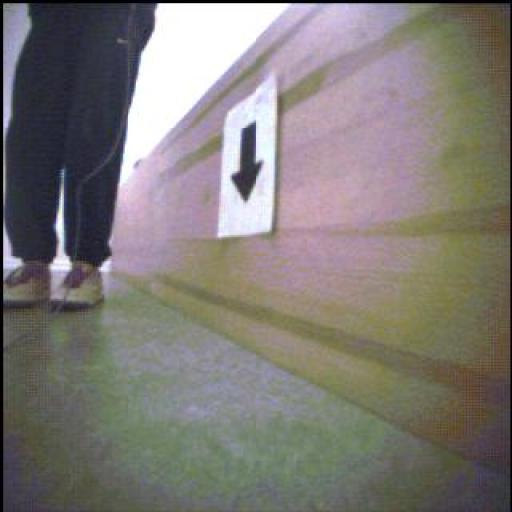arrow: (233, 123, 263, 203)
